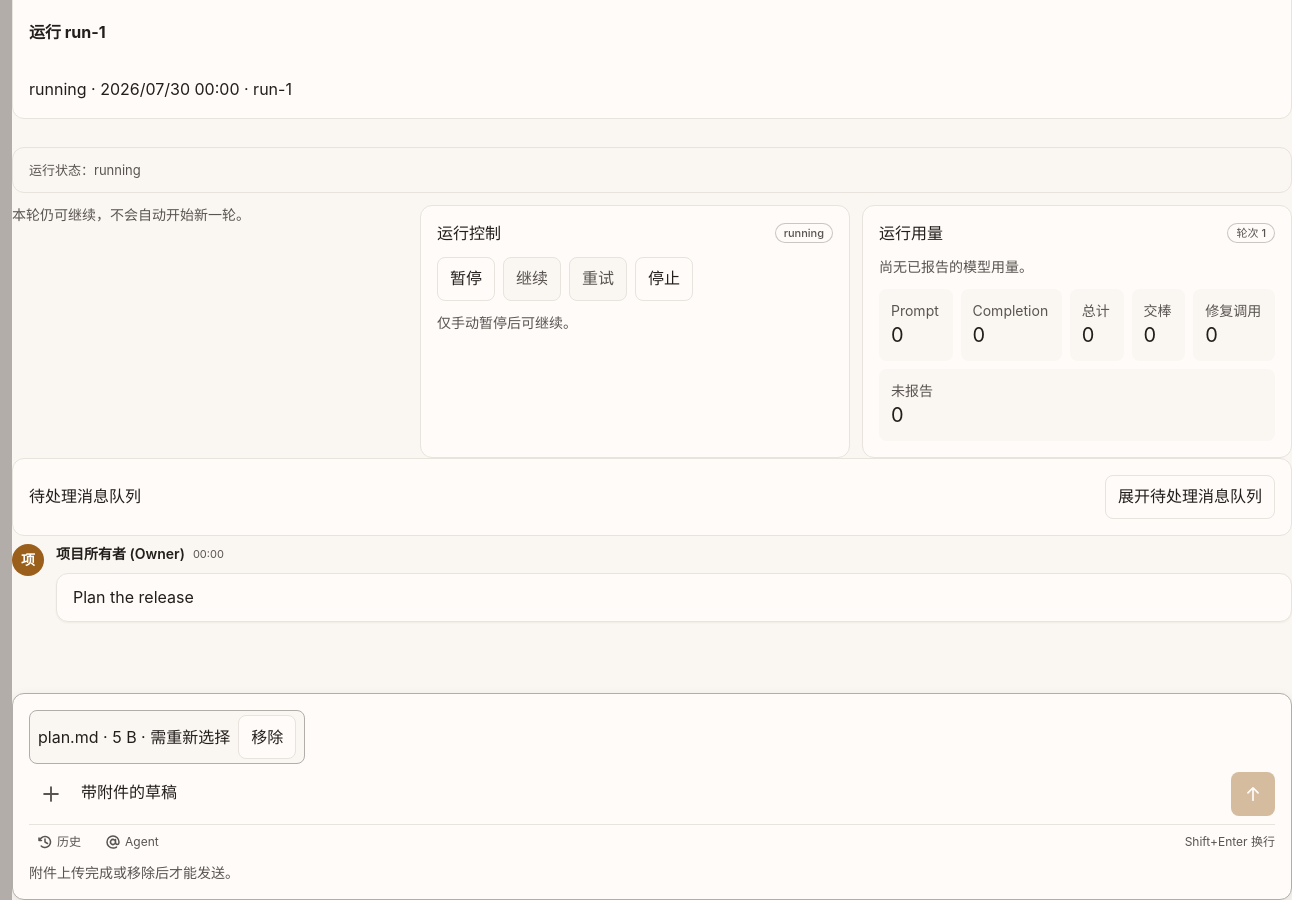
composer reply and attachment placeholders › keeps restored legacy placeholders blocking send until removed, and saves the removal
This screenshot has width=1292, height=900.
(page scrolled)
Expected: the text "plan.md · 5 B · 需重新选择 移除" is shown, [29,710,305,764]
Step 1. Replace the text in the text box named "发送给项目对话" with "带附件的草稿。" → (652,794), box [81,772,1223,816]
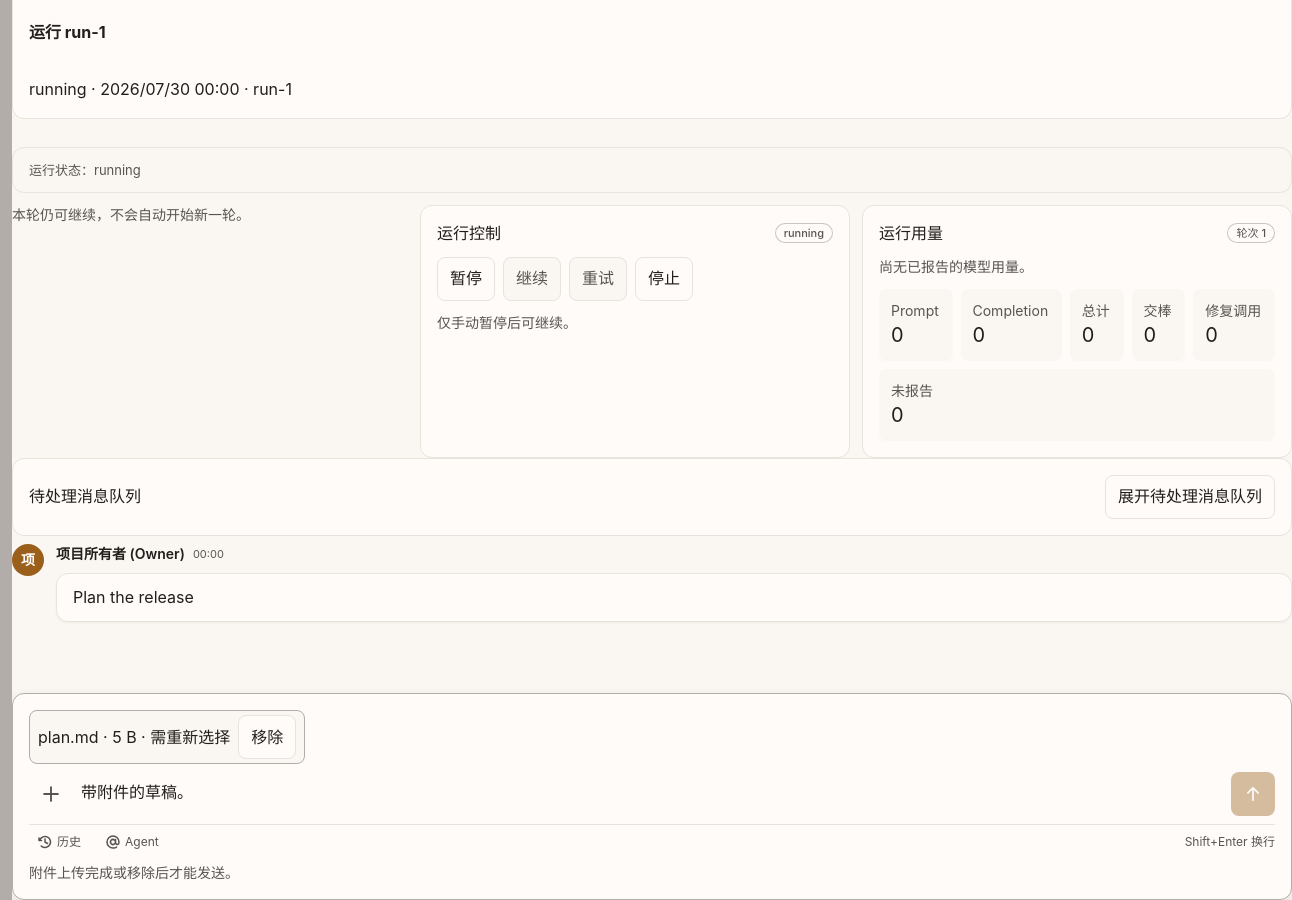
Expected: the button named "发送消息" is disabled, [1231,772,1275,816]
Expected: the text "附件上传完成或移除后才能发送。" is shown, [29,864,239,881]
Step 2. Click the button with aria-label "移除附件 plan.md" → (267,737), box [238,715,296,759]
(page scrolled)
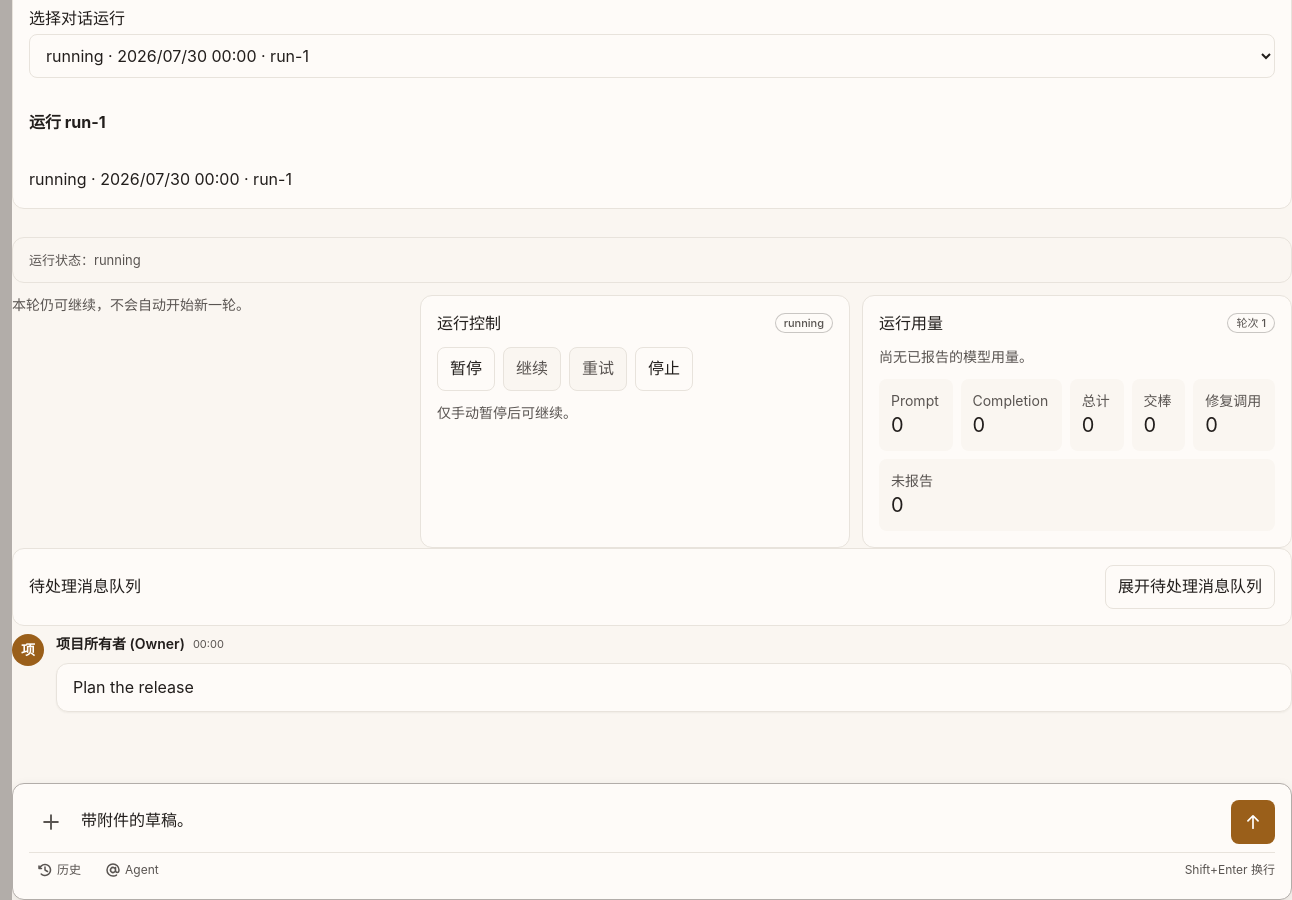
Expected: the text "plan.md" is gone
Expected: the button named "发送消息" is enabled, [1231,800,1275,844]
